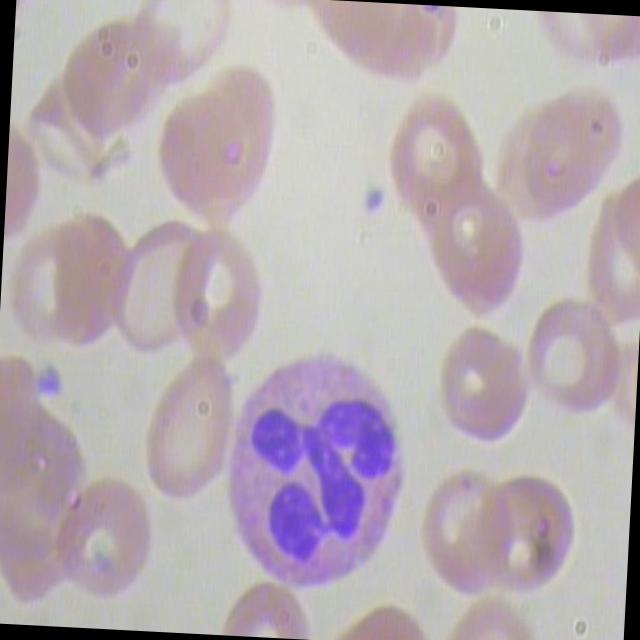Platelets: (31, 356, 69, 407), (356, 178, 388, 222)
RBC: (132, 348, 240, 510), (62, 6, 180, 153), (416, 175, 530, 324), (382, 98, 496, 247), (168, 228, 268, 379), (416, 468, 518, 609), (474, 471, 576, 612), (520, 301, 622, 442), (432, 320, 534, 460), (55, 477, 156, 618), (517, 93, 625, 221), (43, 215, 141, 356)
WBC: (206, 336, 413, 598)
